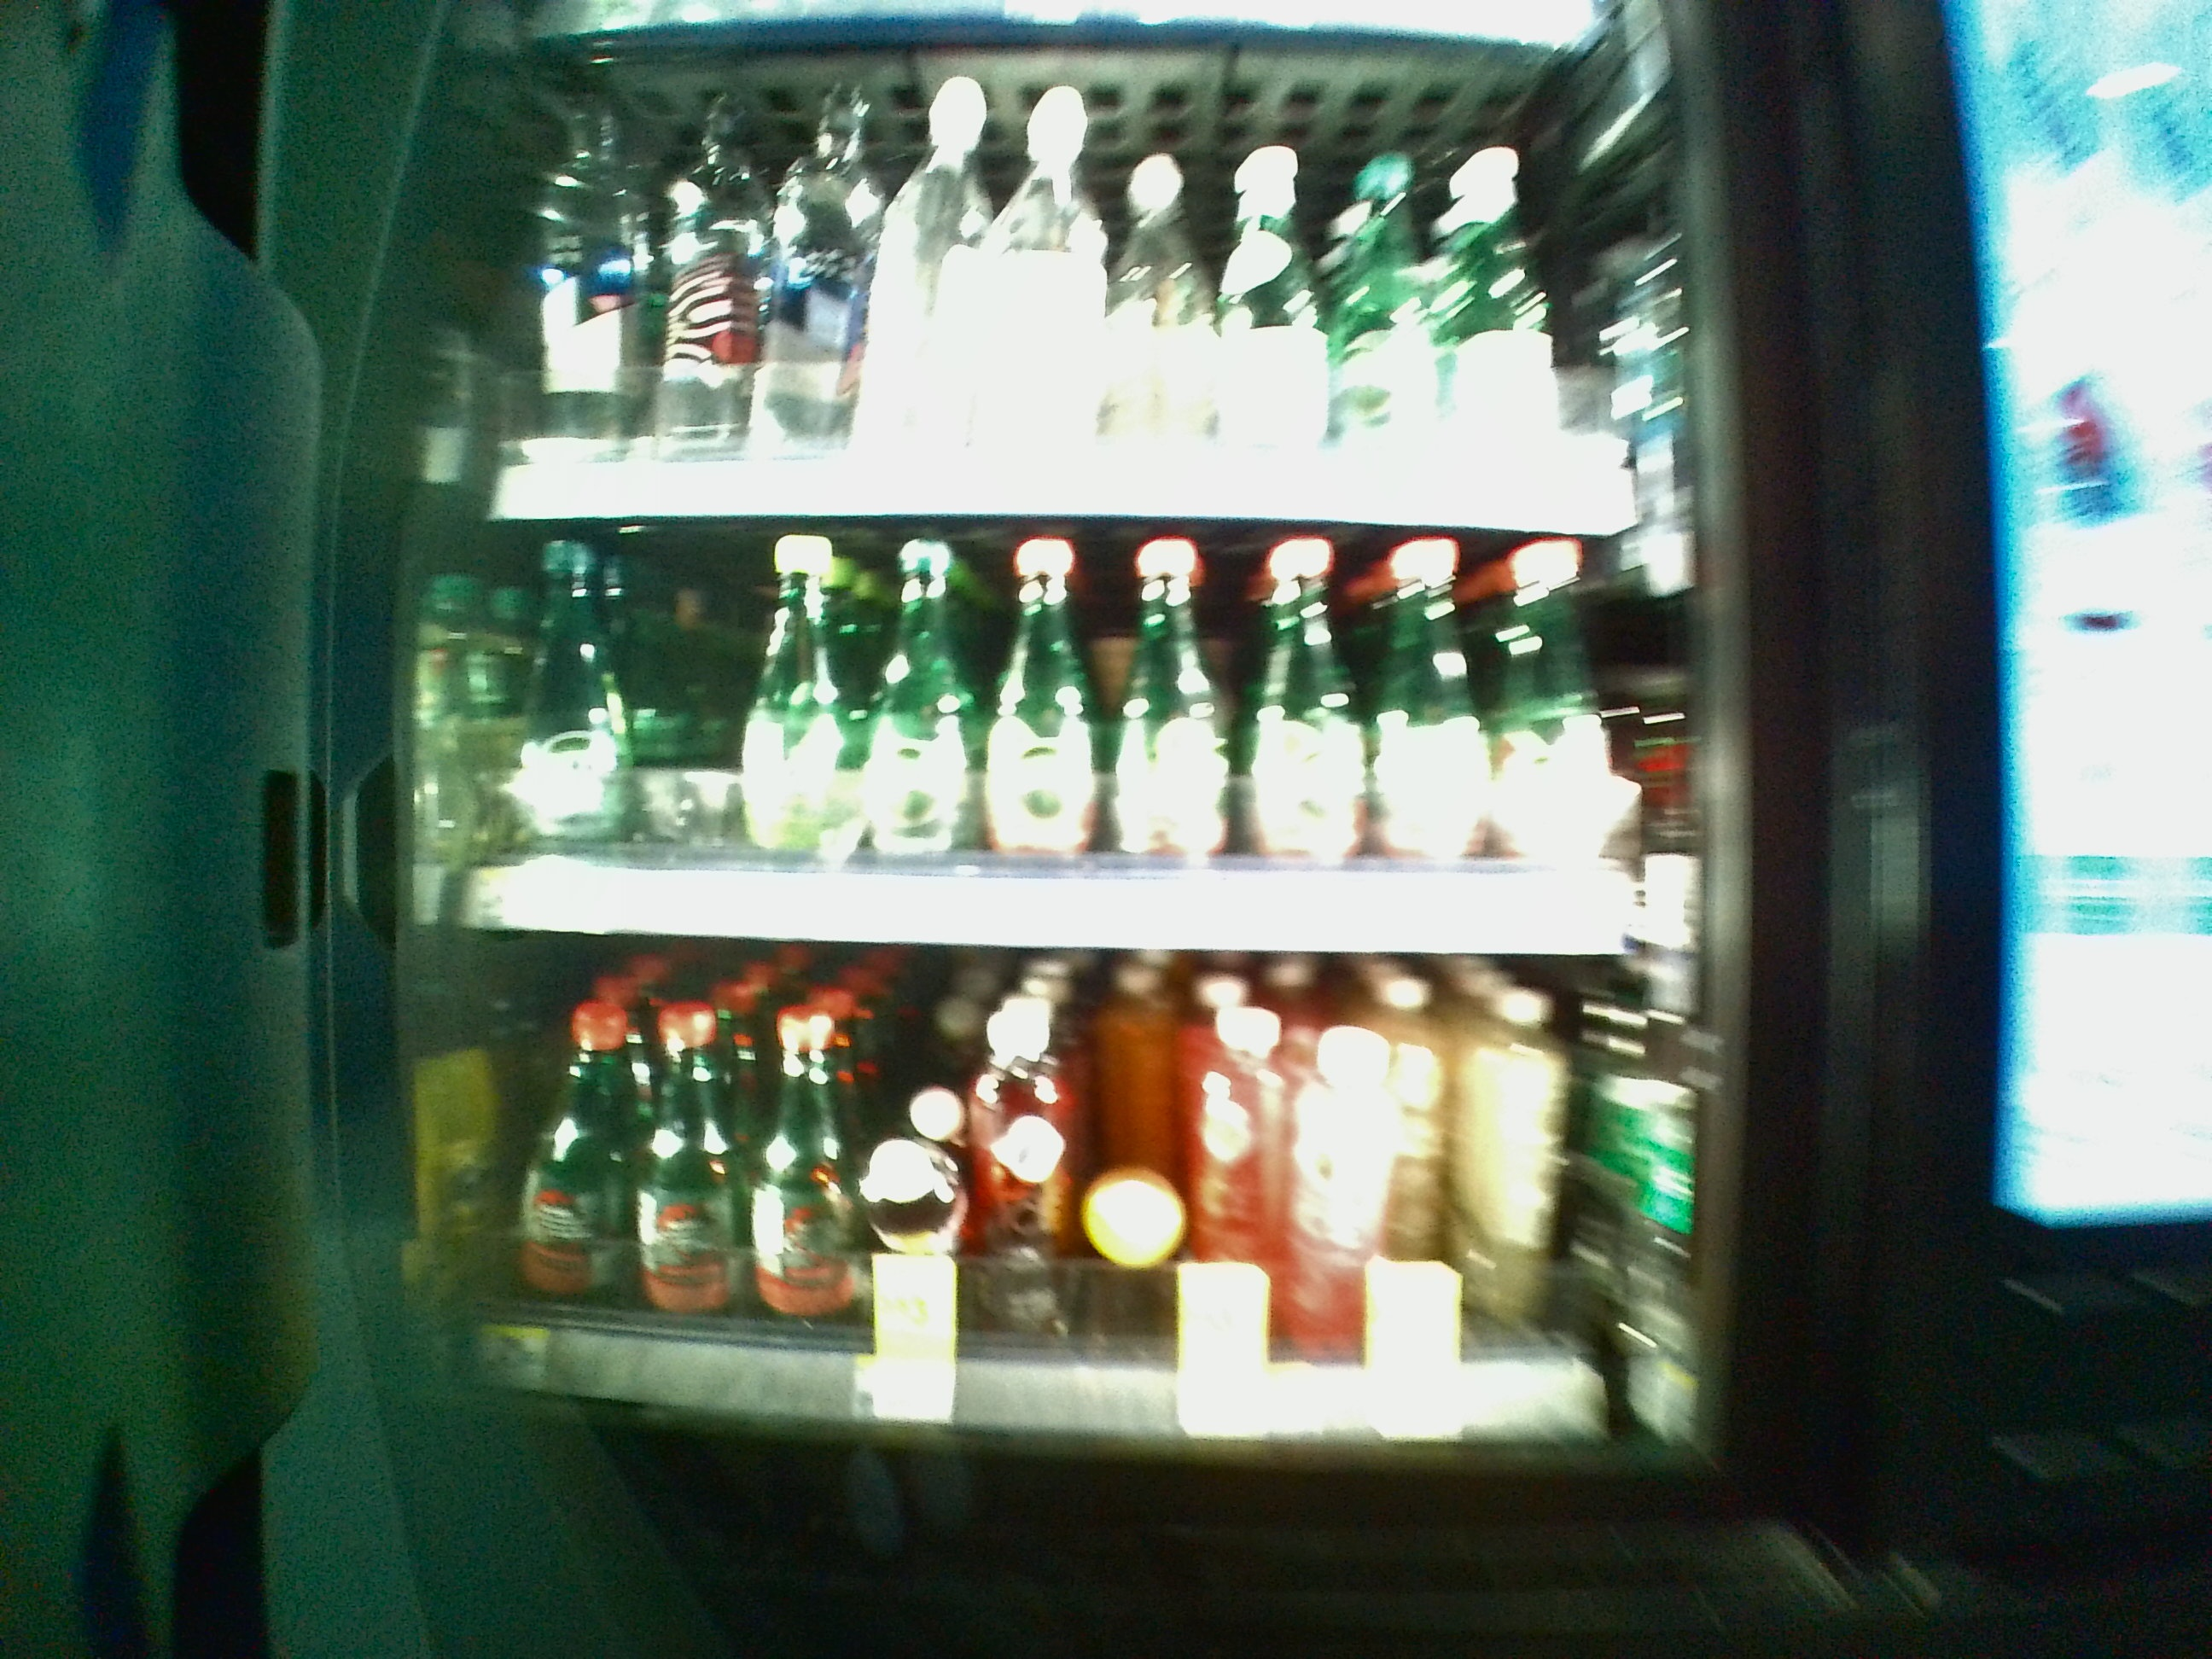Shelf: (465, 957, 1669, 1457), (462, 521, 1672, 953)
